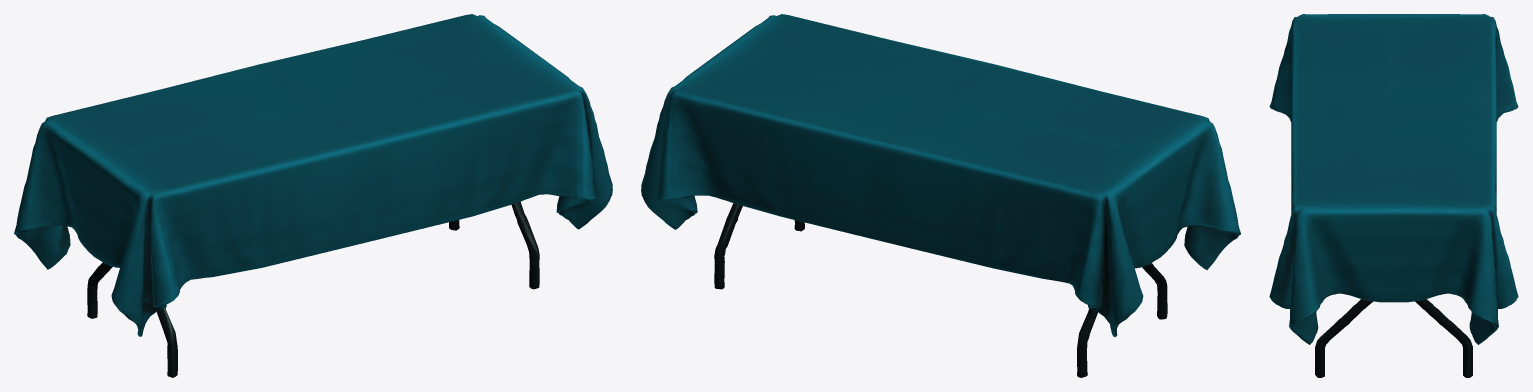
Rendered from BNQ_TBLE_TEAL_LINEN_H_0630194215_texture.glb.
The picture shows the model from 3 angles, left to right: view 1: azimuth 30°, elevation 25°; view 2: azimuth 150°, elevation 25°; view 3: azimuth 270°, elevation 25°; orthographic projection. The views are drawn at different scales.
Visible parts, largest first — view 1: Mesh_0.001; view 2: Mesh_0.001; view 3: Mesh_0.001.
Part boxes in pixels (box(x1,y1,x2,y2)): Mesh_0.001: box(14, 14, 612, 377); Mesh_0.001: box(641, 14, 1240, 377); Mesh_0.001: box(1269, 14, 1518, 377).
Size of the model in its own units: 1.98 by 0.762 by 0.9331.
1 material, 1 textured.
